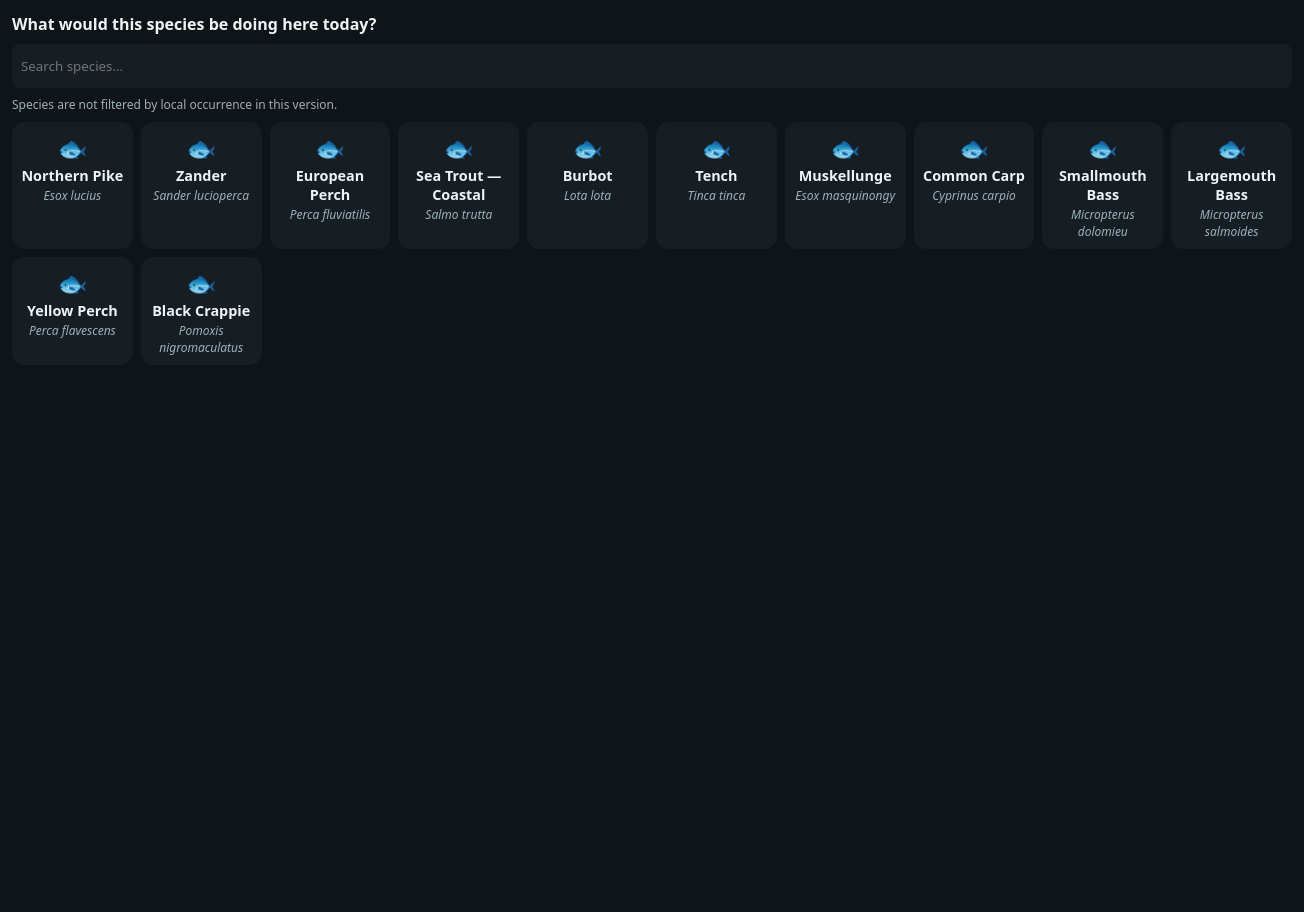
Test: FishActivityView › selecting an activity species (Pike) shows a timeline, reasons, and confidence, and never lets the caller change location
The width and height of the screenshot is (1304, 912).
Click the button "🐟 Northern Pike Esox lucius" at (72, 186), box [12,122,133,249]
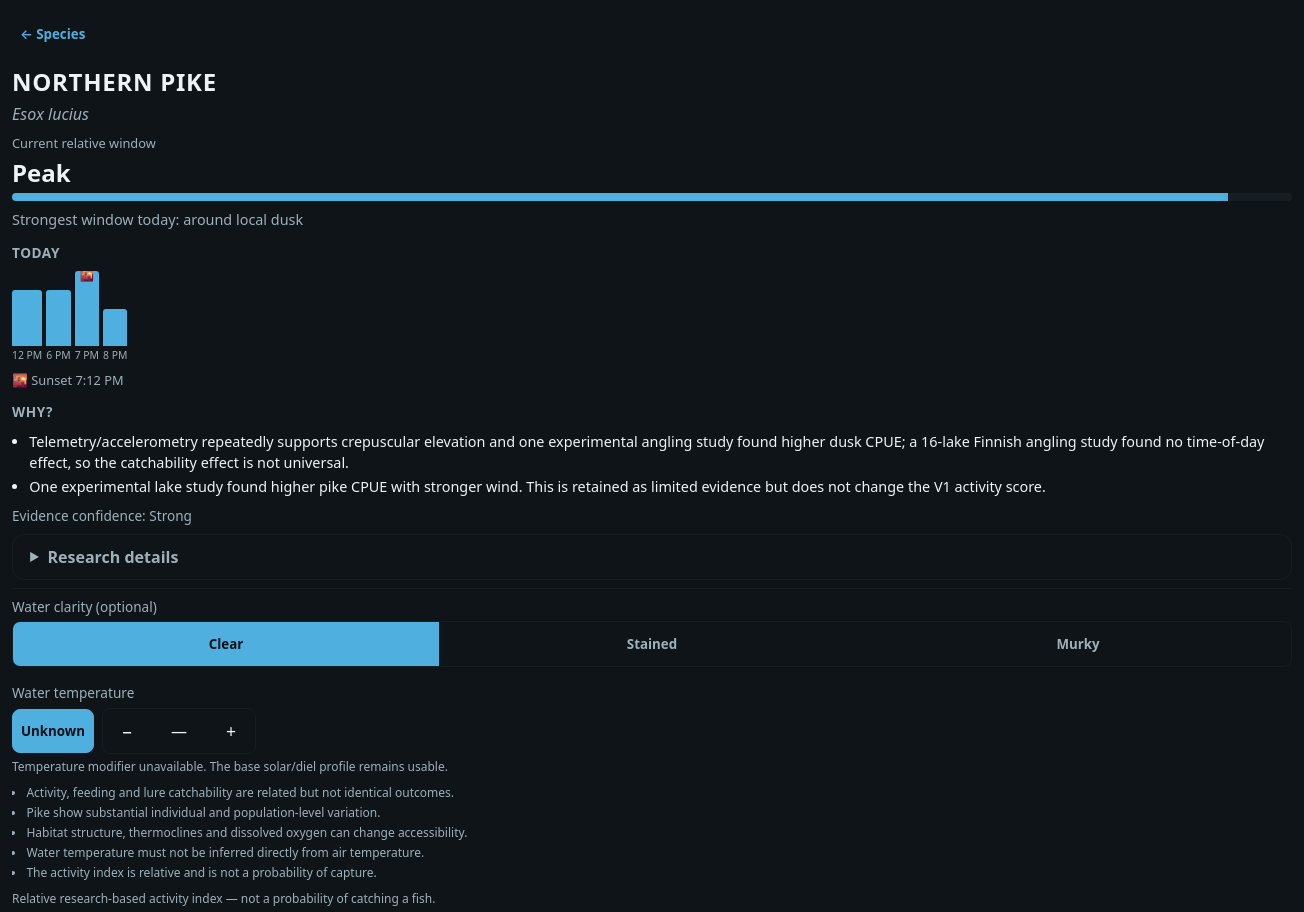
expect the text "Current relative window" is shown: met, box [12,134,156,152]
expect the heading "Why?" is shown: met, box [12,402,53,421]
expect the text "Evidence confidence: Strong" is shown: met, box [12,506,192,525]
// Back returns to the catalog without ever touching location/forecast state.
Click the button "← Species" at (53, 34), box [12,12,93,56]
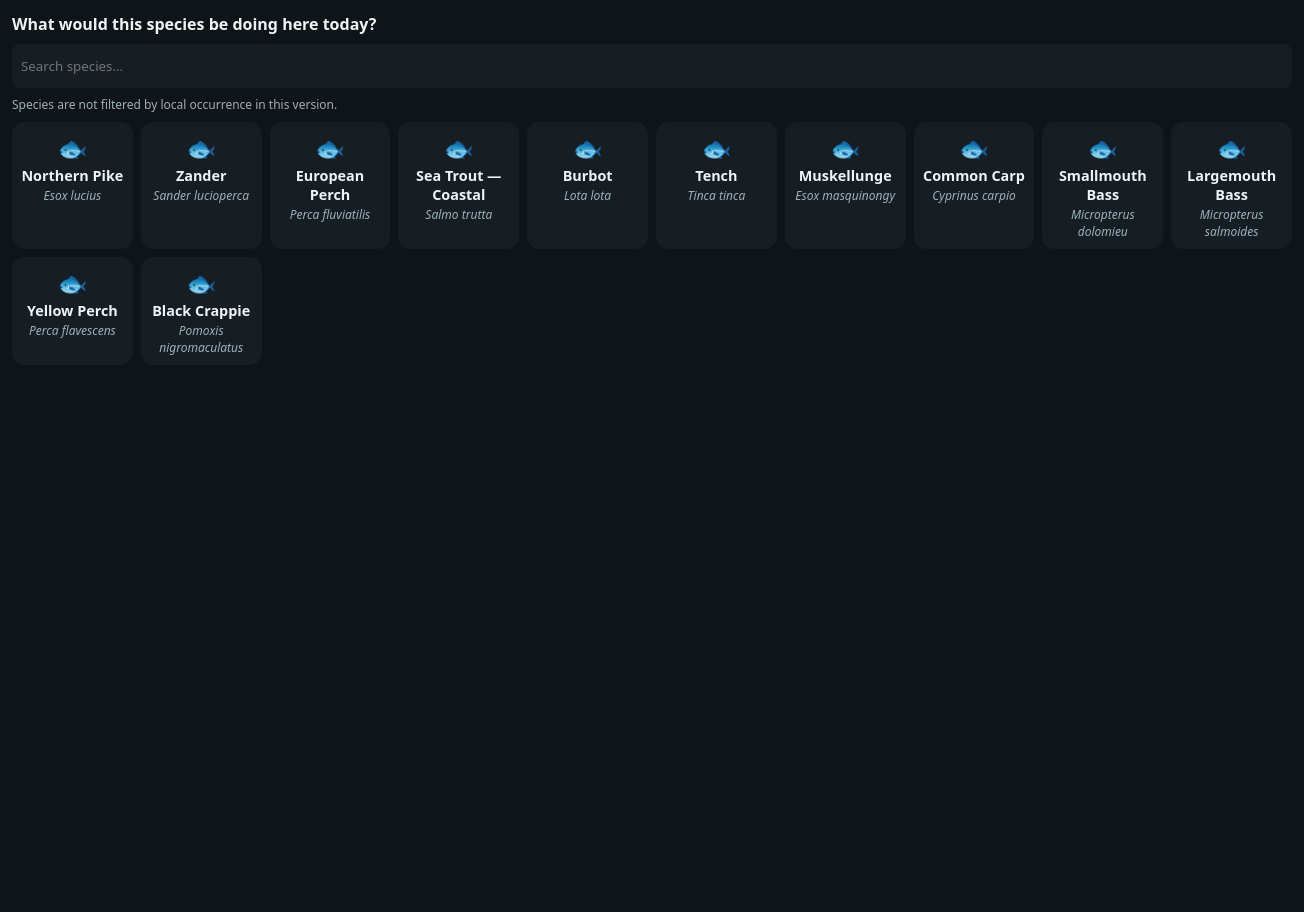
expect the text "What would this species be doing here today?" is shown: met, box [12,13,376,35]
